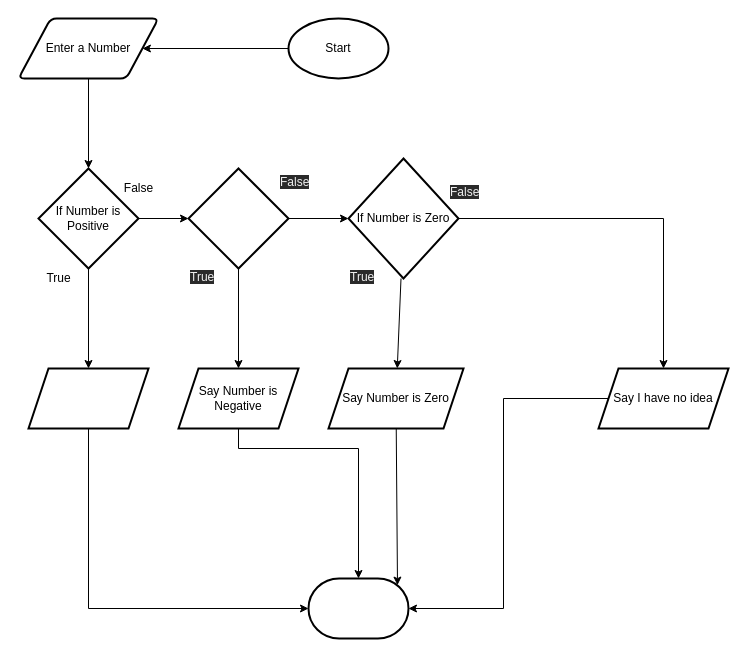
This 746x656 diagram has some shape labels left out. Here are the shapes that lost their labels. From the top down, the centre of each, then its label:
At pixel 238 218: "If Number is Negative".
At pixel 88 398: "Say Number is positve".
At pixel 358 608: "Stop".
